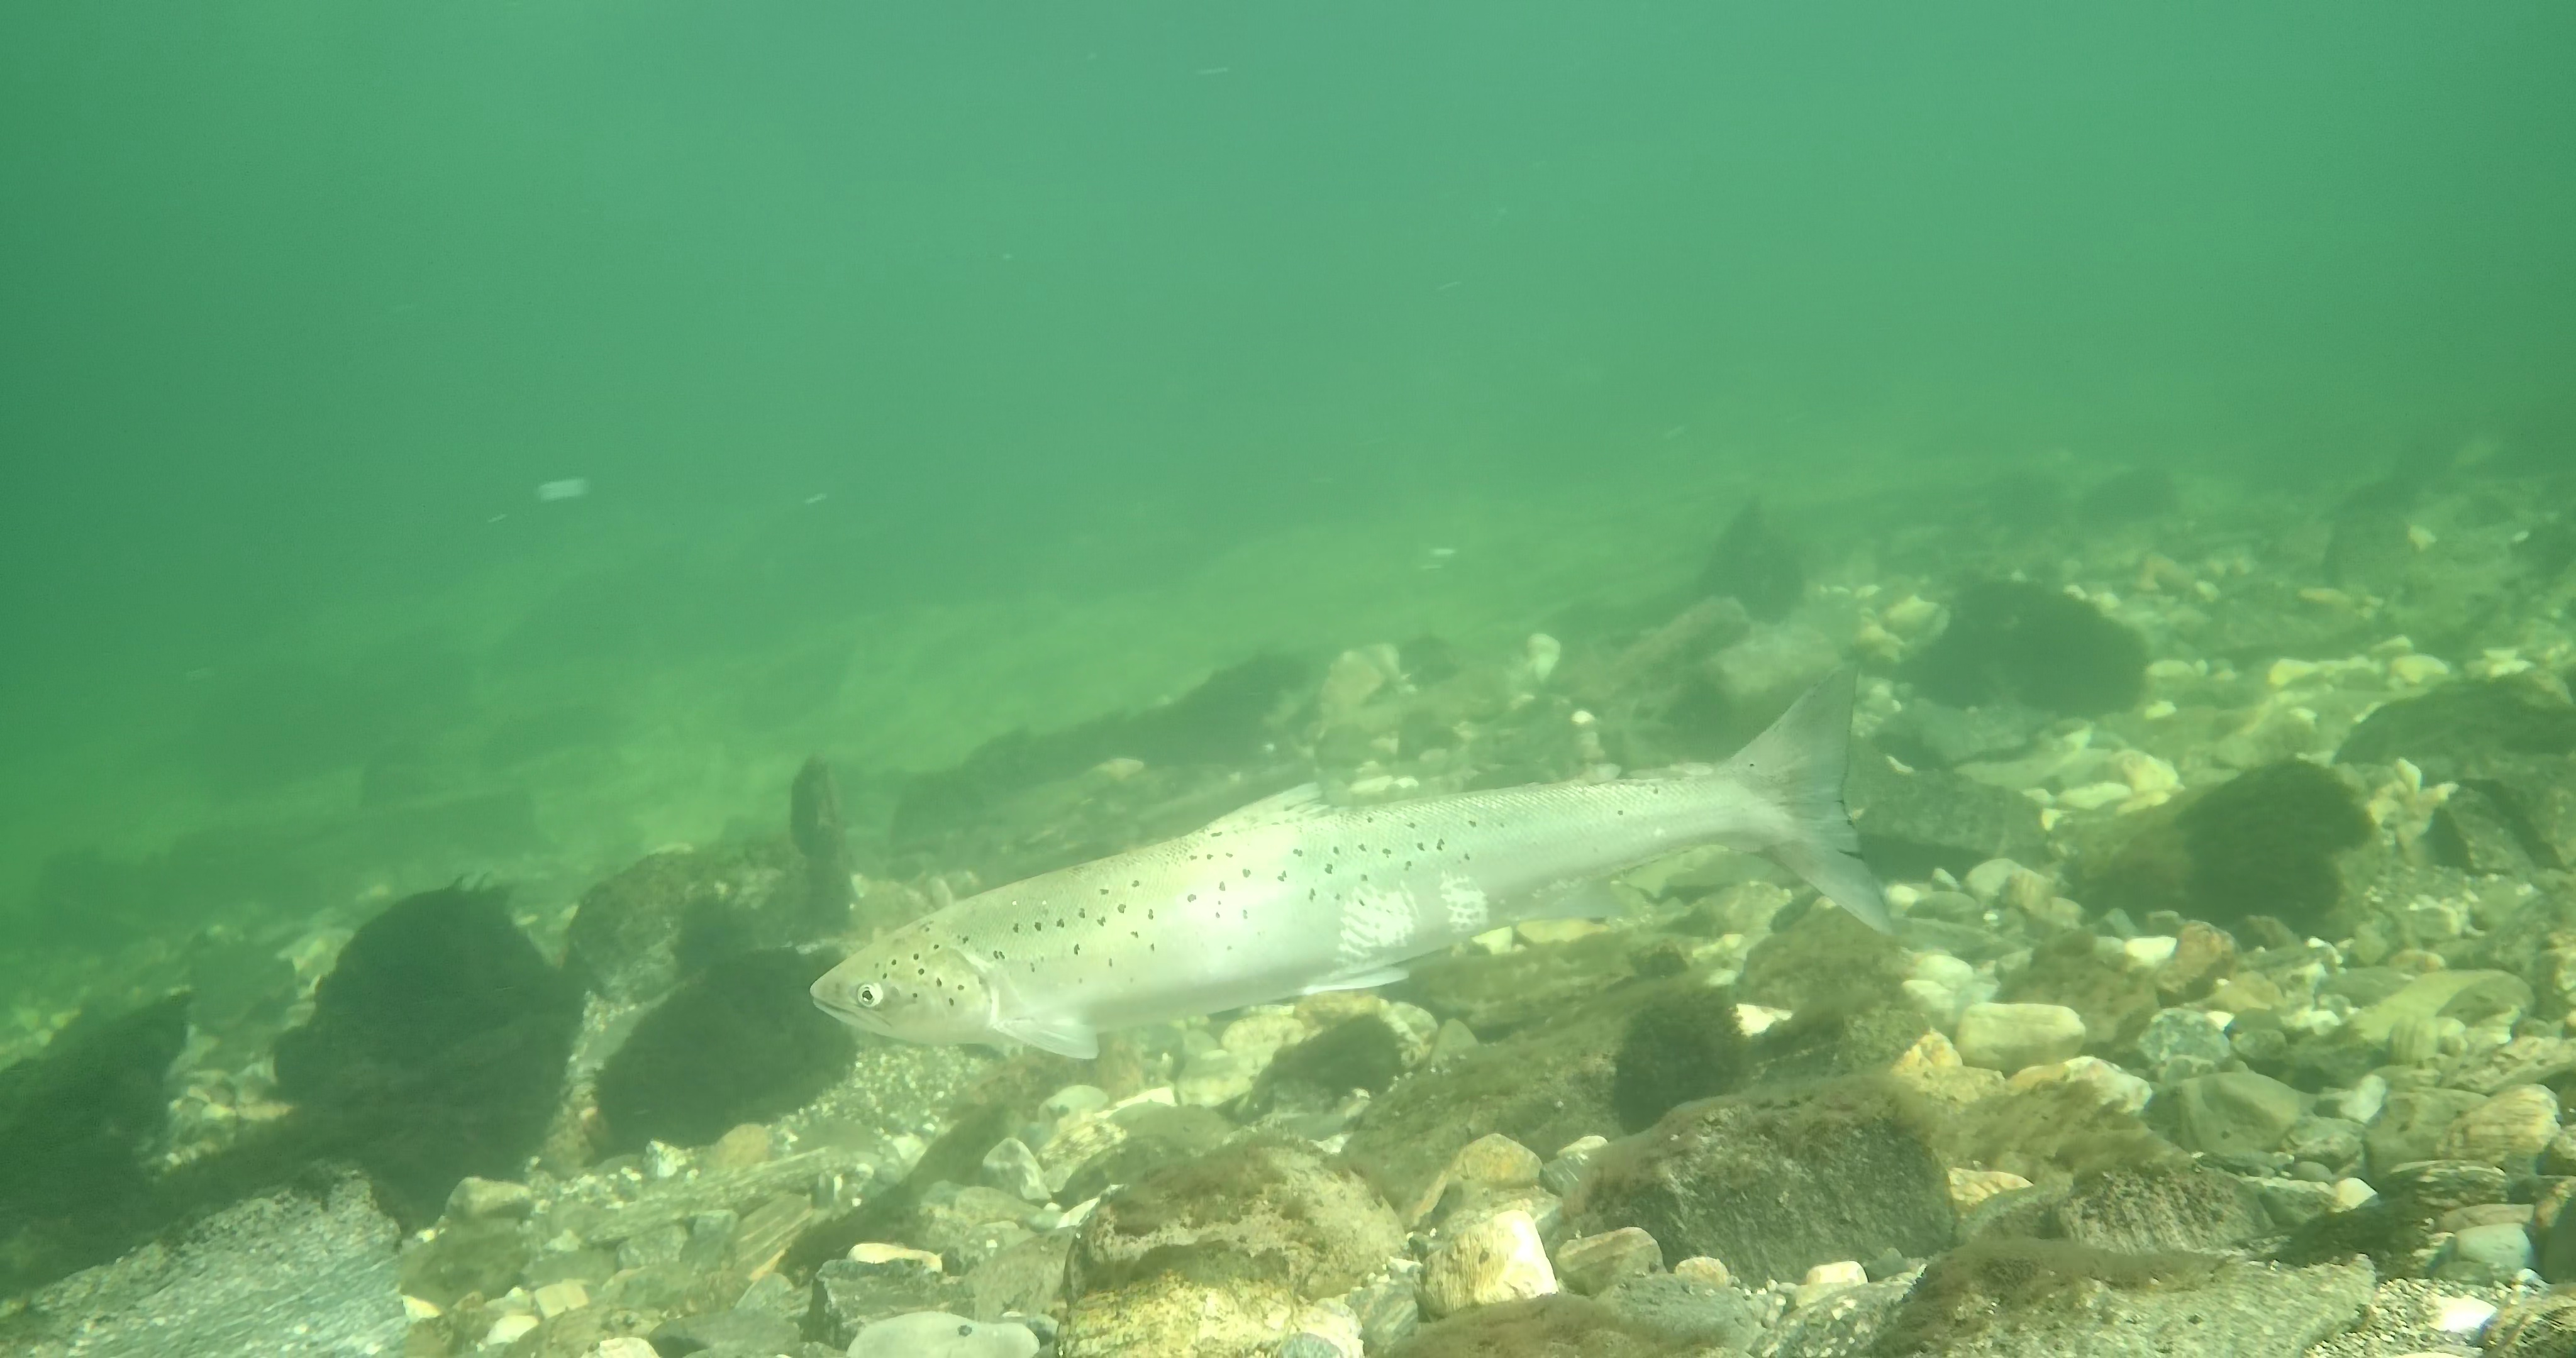salmon: (806, 663, 1896, 1060)
